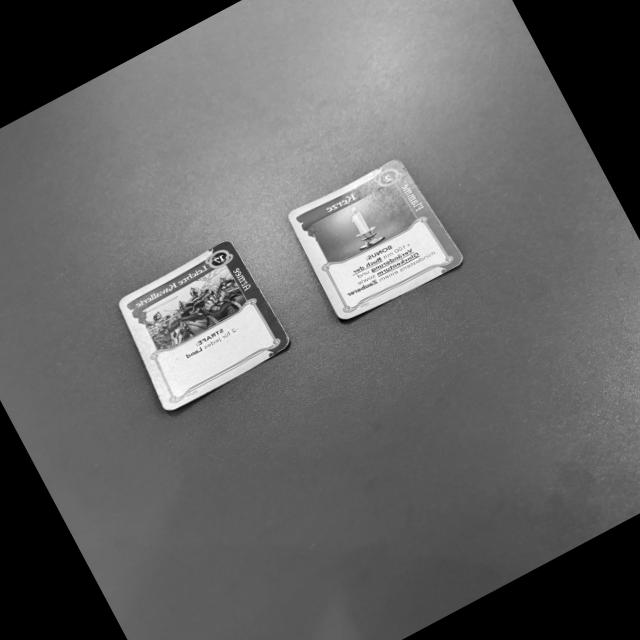Candle: (285, 157, 465, 322)
Light Cavalry: (114, 239, 297, 413)
